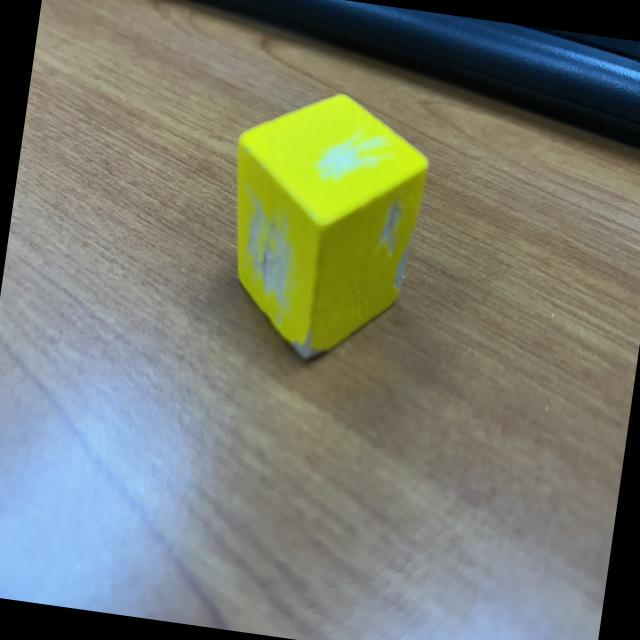broken: (209, 80, 437, 376)
